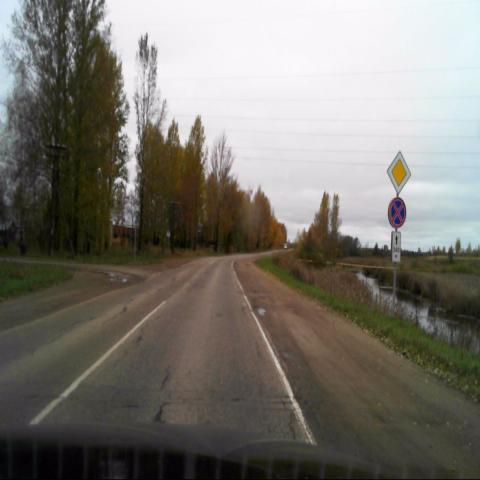2_1: (387, 151, 411, 194)
3_27: (388, 197, 406, 229)
8_2_2: (391, 231, 401, 263)
